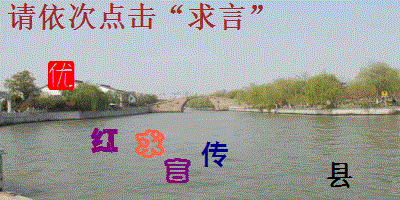text: (134, 128, 167, 158), (47, 59, 76, 91), (325, 160, 354, 190), (90, 126, 119, 154), (200, 140, 229, 168), (163, 156, 192, 184)
